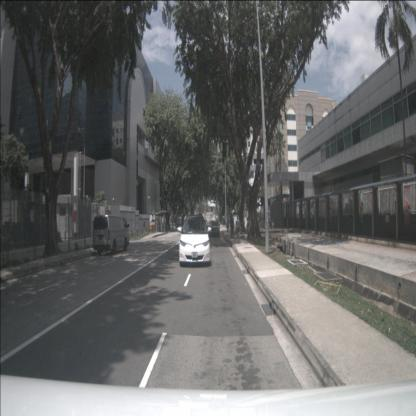human-pedestrian-adult: (230, 214, 234, 239), (235, 216, 239, 239), (226, 216, 229, 233)
vehicle-car: (179, 215, 210, 266), (93, 215, 129, 255), (208, 221, 219, 237)
